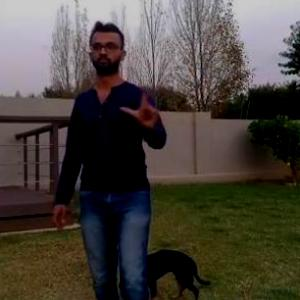land_hand: (120, 74, 164, 130)
